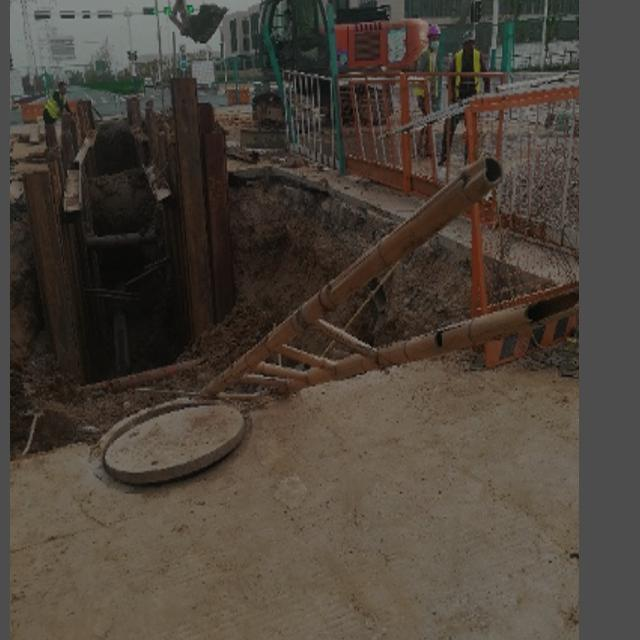uncovered: (85, 394, 246, 488)
